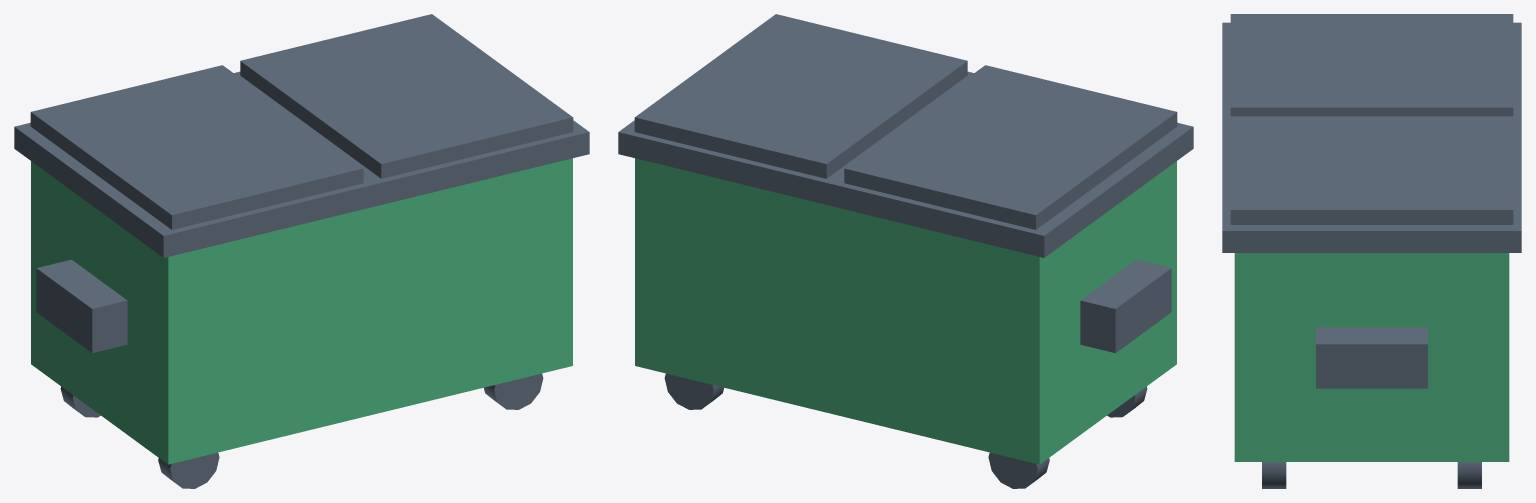
Rendered from trash_dumpster_green.glb.
3 views of the same model, side by side, from view 1: azimuth 30°, elevation 25°; view 2: azimuth 150°, elevation 25°; view 3: azimuth 270°, elevation 25° (orthographic).
Parts seen in each view (by area): view 1: trash_dumpster_green, dumpster_lid_left_pivot, dumpster_lid_right_pivot; view 2: trash_dumpster_green, dumpster_lid_left_pivot, dumpster_lid_right_pivot; view 3: trash_dumpster_green, dumpster_lid_right_pivot, dumpster_lid_left_pivot.
Part boxes in pixels (x1,y1,x2,y2): trash_dumpster_green: (14, 71, 589, 488); dumpster_lid_left_pivot: (30, 65, 363, 229); dumpster_lid_right_pivot: (240, 14, 573, 178); trash_dumpster_green: (618, 71, 1193, 488); dumpster_lid_left_pivot: (844, 65, 1177, 229); dumpster_lid_right_pivot: (634, 14, 967, 178); trash_dumpster_green: (1222, 22, 1521, 488); dumpster_lid_right_pivot: (1230, 116, 1513, 224); dumpster_lid_left_pivot: (1230, 14, 1513, 116).
Size of the model in its own units: 2.7 by 1.6 by 1.47.
